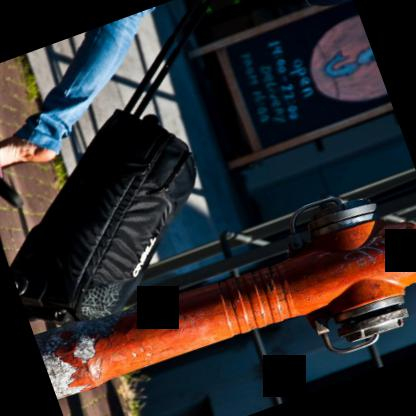suitcase: (9, 108, 196, 323)
